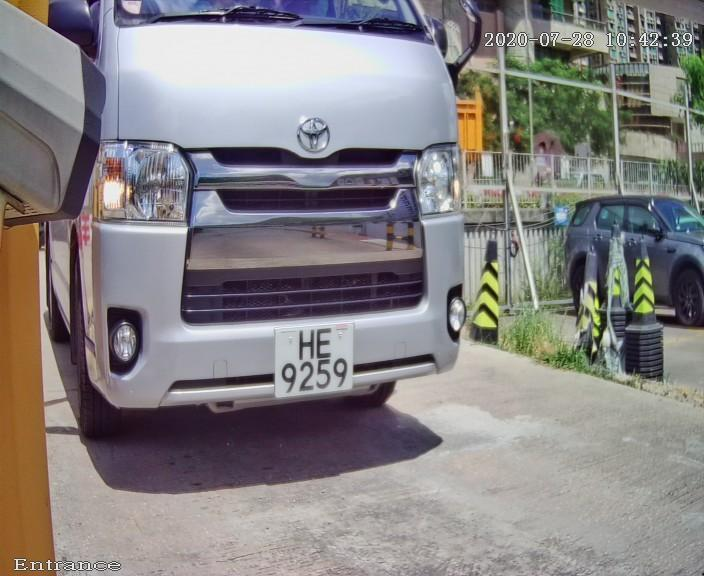privatecar: (19, 3, 522, 476)
